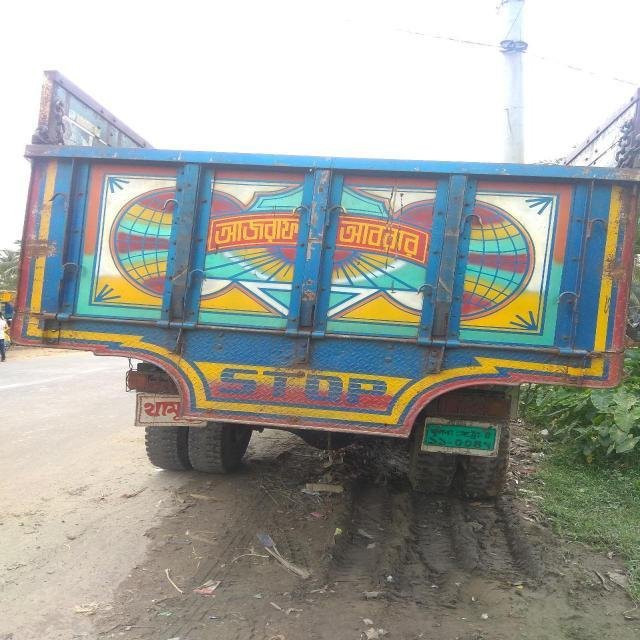numberplate: (419, 418, 499, 457)
